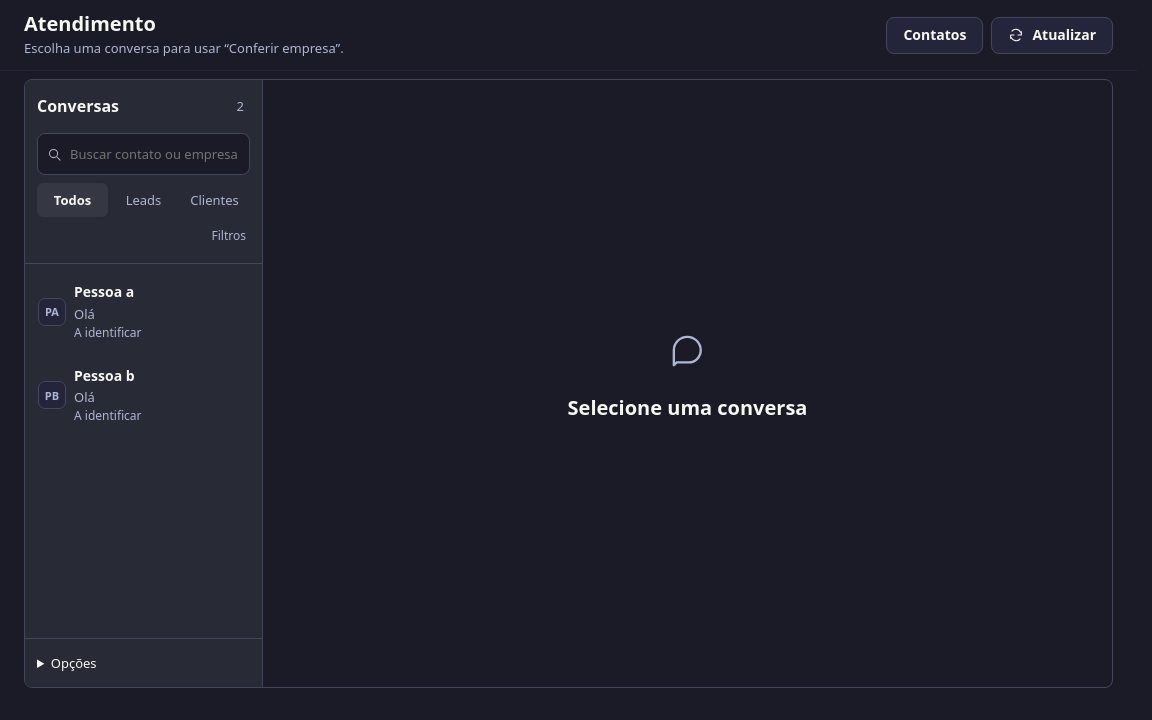
Scenario: rascunho da biblioteca não oferece uso e pedido indisponível não gera prévia
Click the button with test id "conversa-a": x=144, y=312 [30,271,257,353]
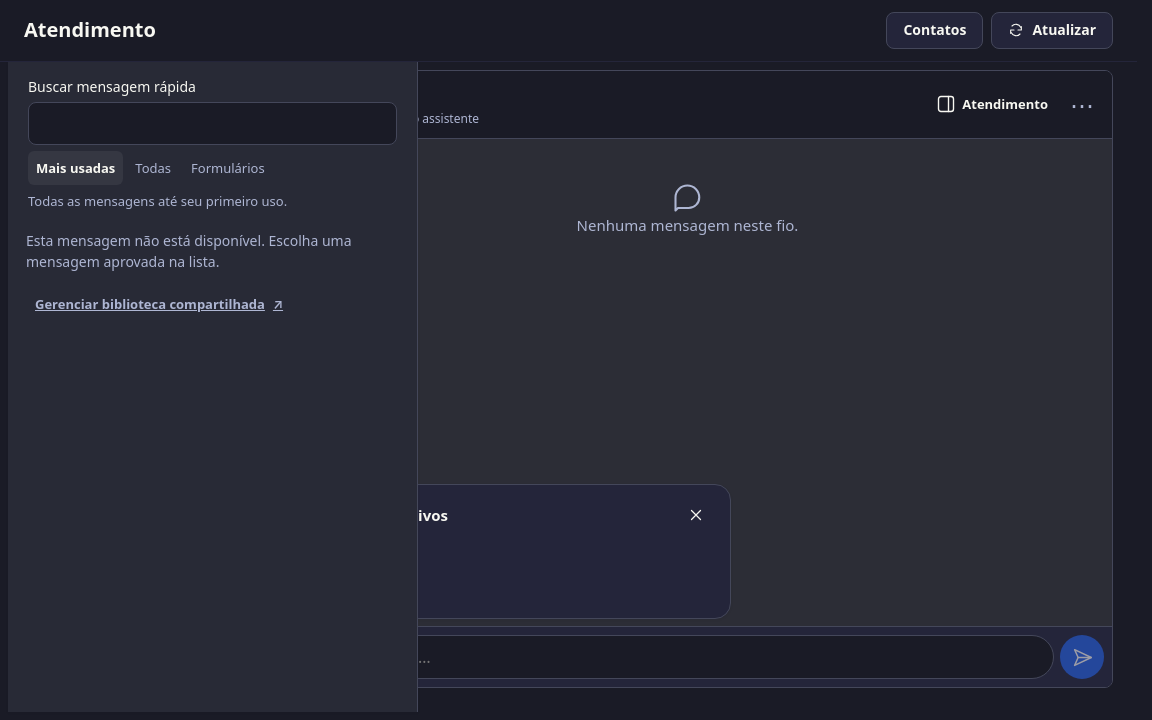
Check: the message shows "mensagem não está disponível", box [26,230,352,271]
